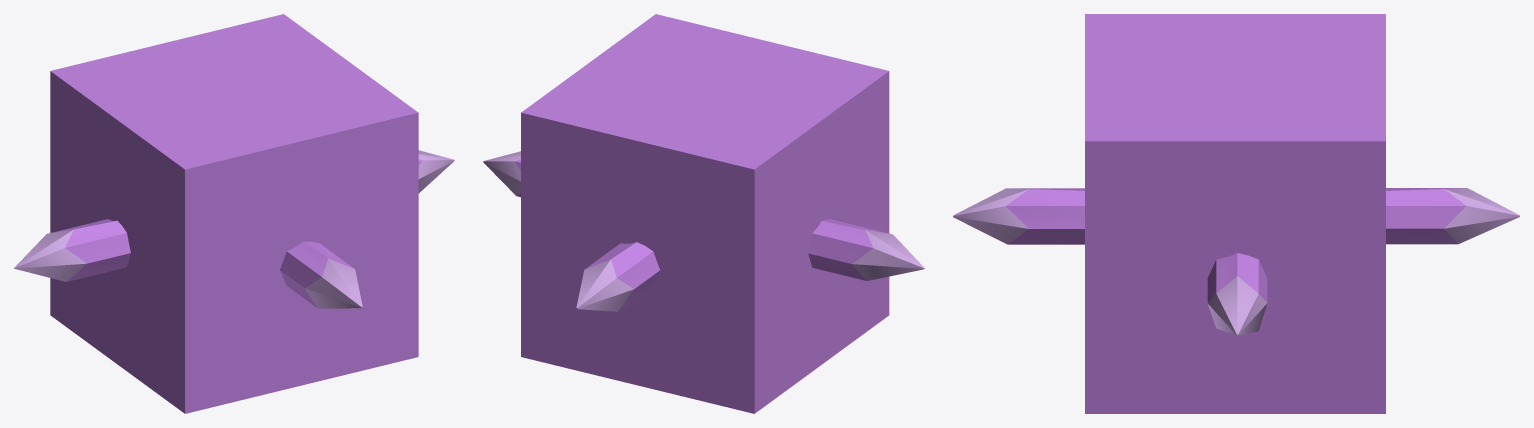
File: round_6.fbx
3 views of the same model, side by side, from view 1: azimuth 30°, elevation 25°; view 2: azimuth 150°, elevation 25°; view 3: azimuth 270°, elevation 25° (orthographic). The views are drawn at different scales.
Visible parts, largest first — view 1: pCube2; view 2: pCube2; view 3: pCube2.
Part boxes in pixels (x1,y1,x2,y2): pCube2: (14, 14, 454, 413); pCube2: (483, 14, 924, 413); pCube2: (953, 14, 1519, 413).
Size of the model in its own units: 18.92 by 10.04 by 18.91.
